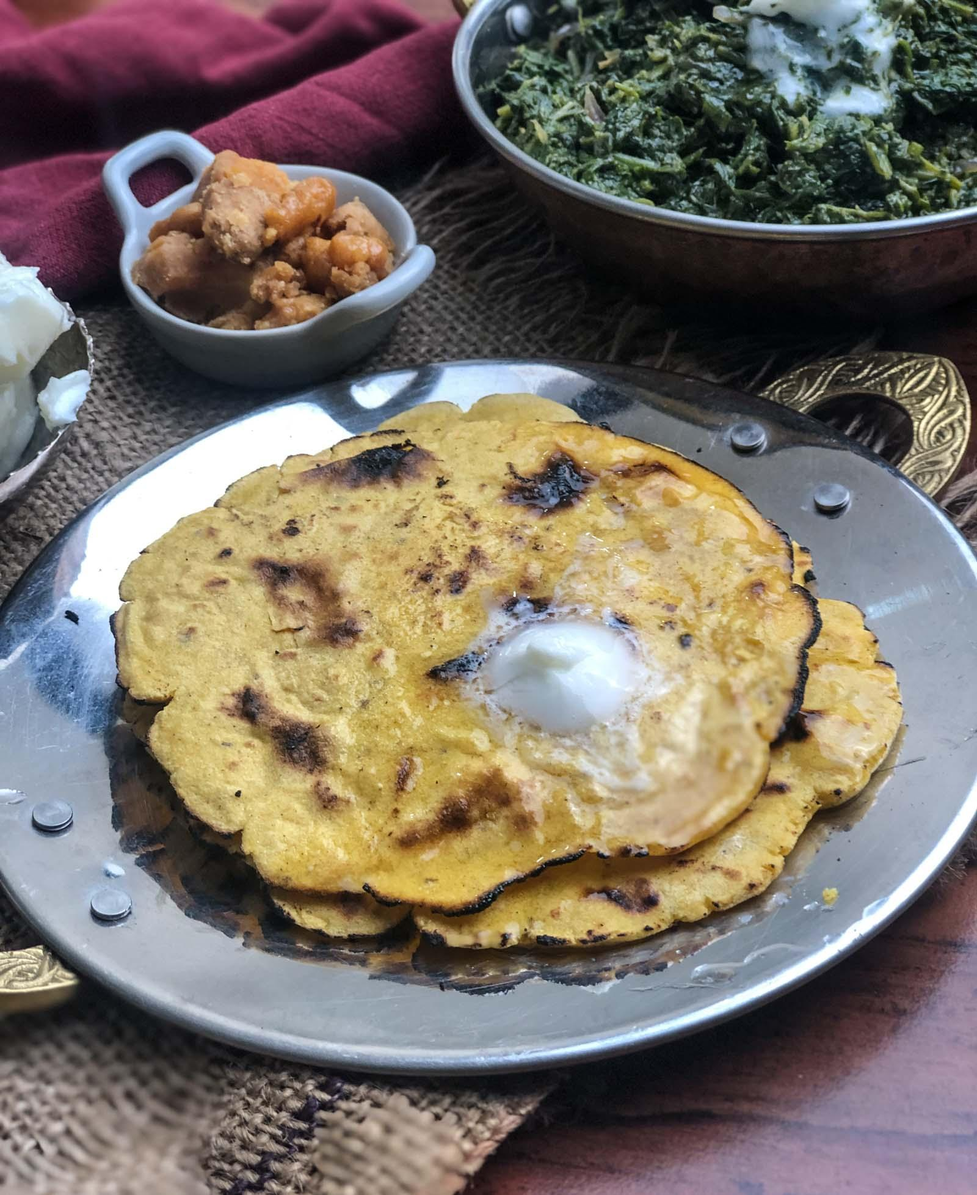saag: (503, 0, 977, 224)
